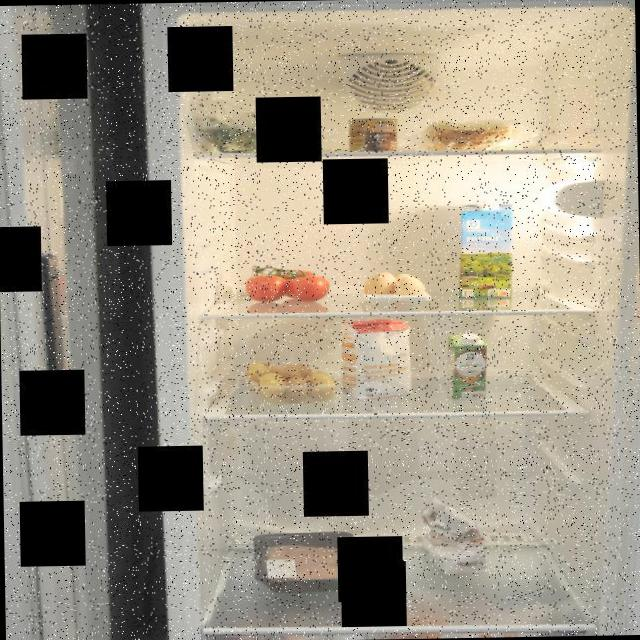Carne pollo: (260, 536, 362, 586)
Huevos: (358, 268, 436, 300)
Leche: (460, 200, 520, 308)
Patata: (244, 356, 345, 404)
Tomate: (238, 266, 339, 303)
